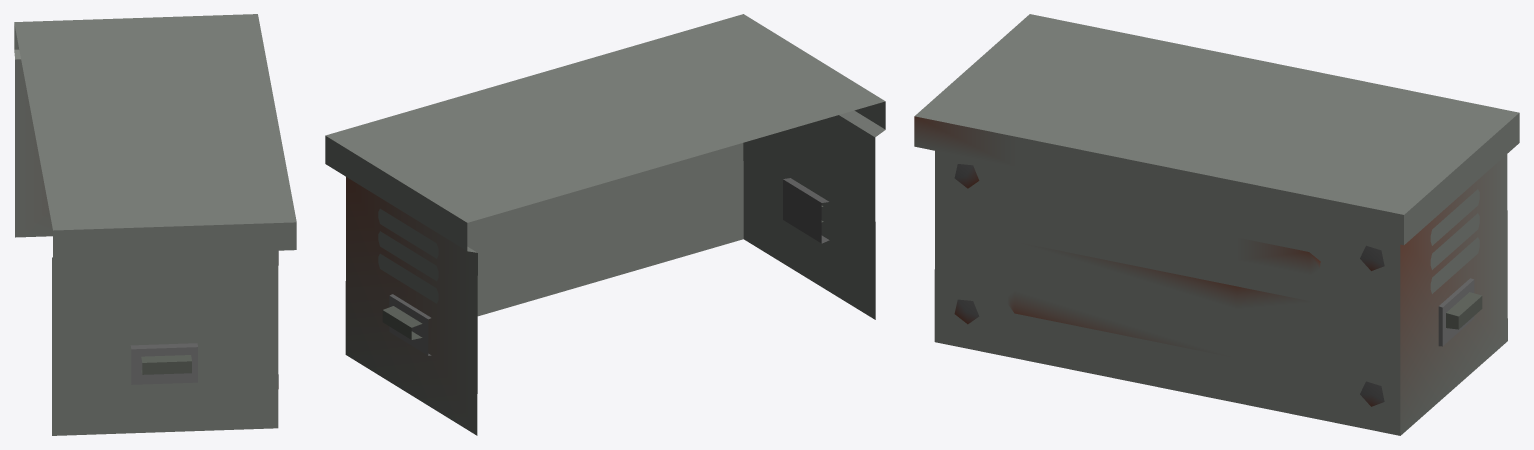
Rendered from MSH_QuestObject_container_02.fbx.
3 views of the same model, side by side, from view 1: azimuth 30°, elevation 25°; view 2: azimuth 150°, elevation 25°; view 3: azimuth 270°, elevation 25° (orthographic). The views are drawn at different scales.
Parts seen in each view (by area): view 1: MSH_QuestObject_container_02; view 2: MSH_QuestObject_container_02; view 3: MSH_QuestObject_container_02.
Part boxes in pixels (left/top/right/bottom): MSH_QuestObject_container_02: left=14, top=14, right=296, bottom=435; MSH_QuestObject_container_02: left=325, top=14, right=885, bottom=435; MSH_QuestObject_container_02: left=914, top=14, right=1519, bottom=435.
Size of the model in its own units: 1.7 by 0.9101 by 2.16.
